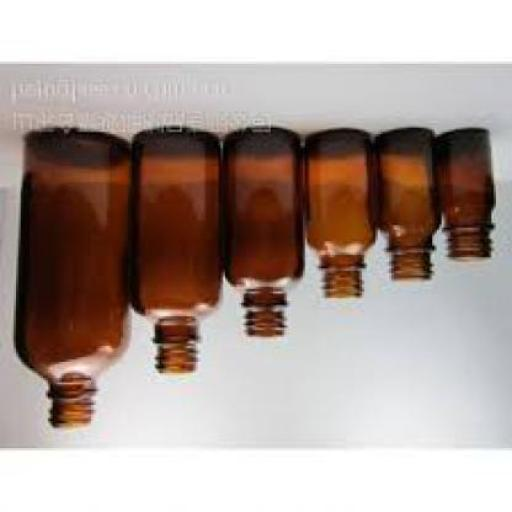glass: (14, 132, 134, 430), (134, 132, 220, 375), (226, 125, 300, 339), (305, 130, 376, 300), (375, 130, 437, 284), (439, 127, 496, 264)
